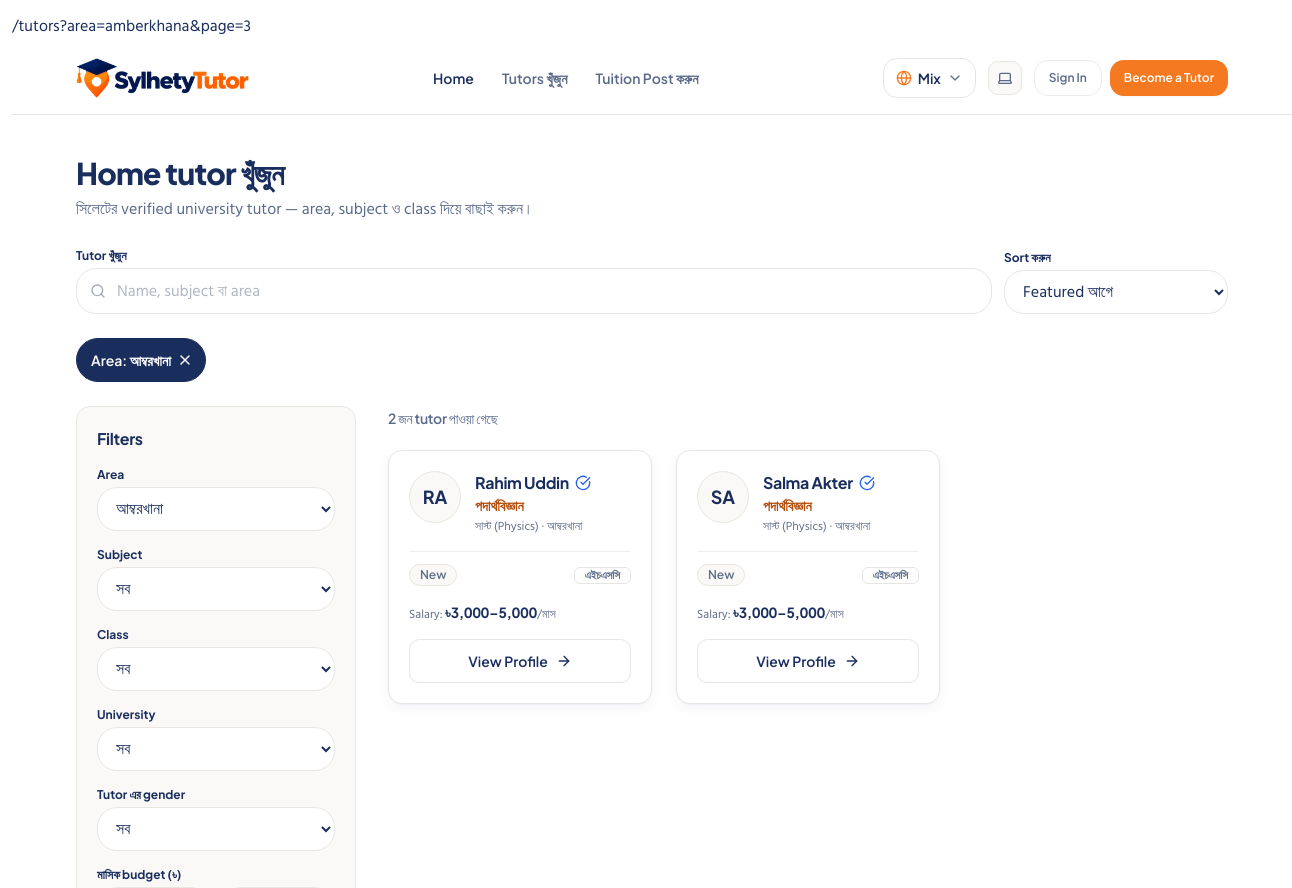
Test case: Search page › puts the search text in the URL after a pause, replacing history
Check: the heading "Rahim Uddin" is shown, box [475,471,569,495]
In the search field labelled "Tutor খুঁজুন": (534, 291) [76,268,992,314], type "rahim"
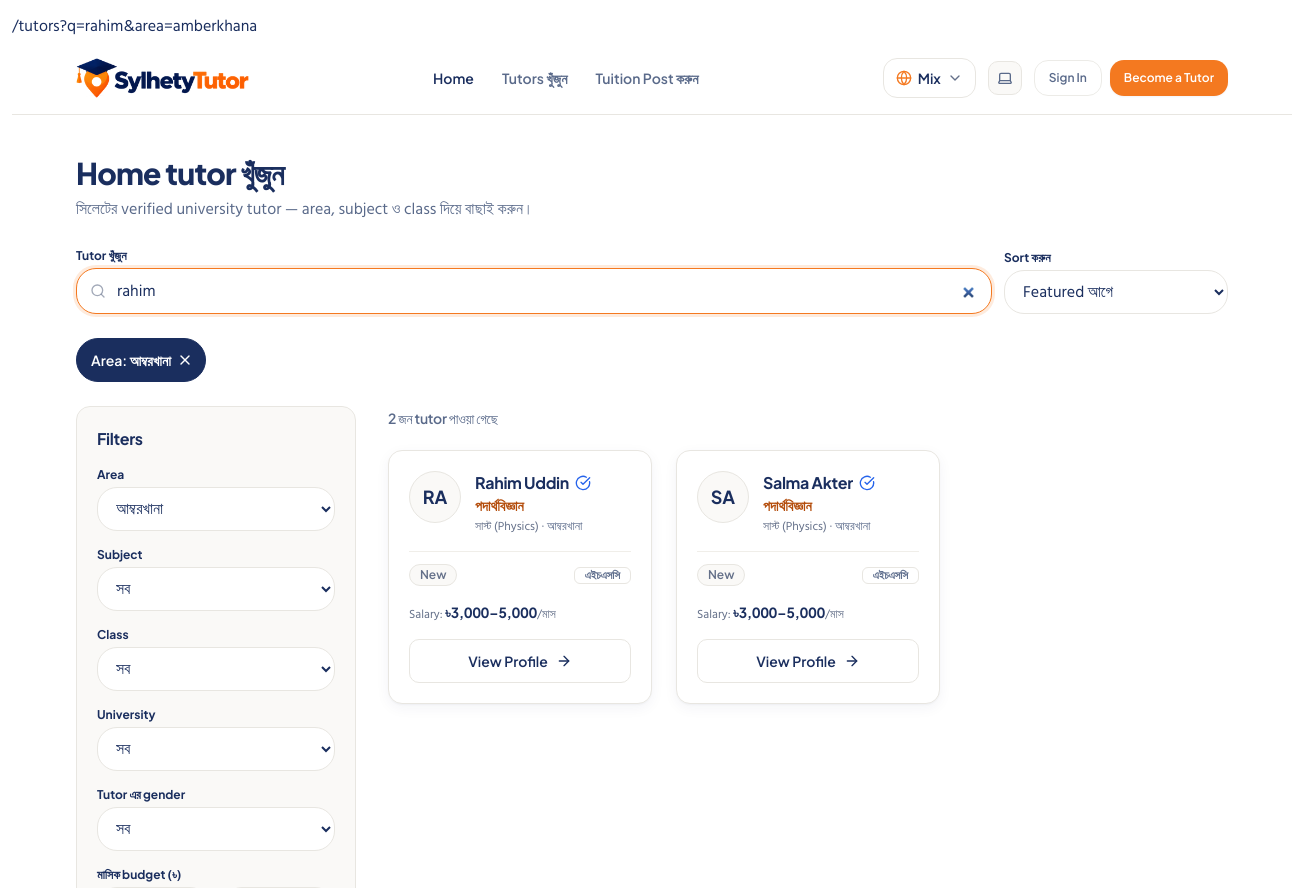
Check: the text with test id "url" reads "/tutors?q=rahim&area=amberkhana", box [12,13,257,39]
